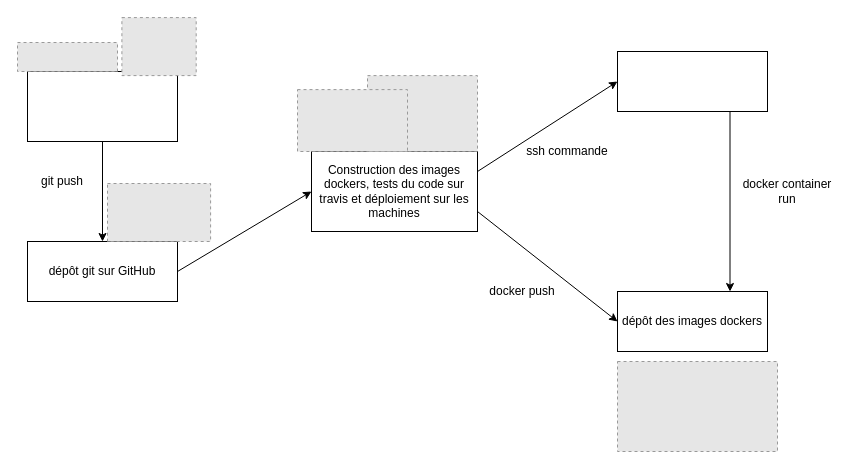
Some shapes in this 855 by 469 pixel diagram are drawn without their labels. Grey dashed boxes stand in for pictures. Each missing label, with the centre of its shape:
"Ecriture en locale avec visual code studio" goes at point 102,106.
"On lance les images dockers dans les machines d'hébergement" goes at point 692,81.
